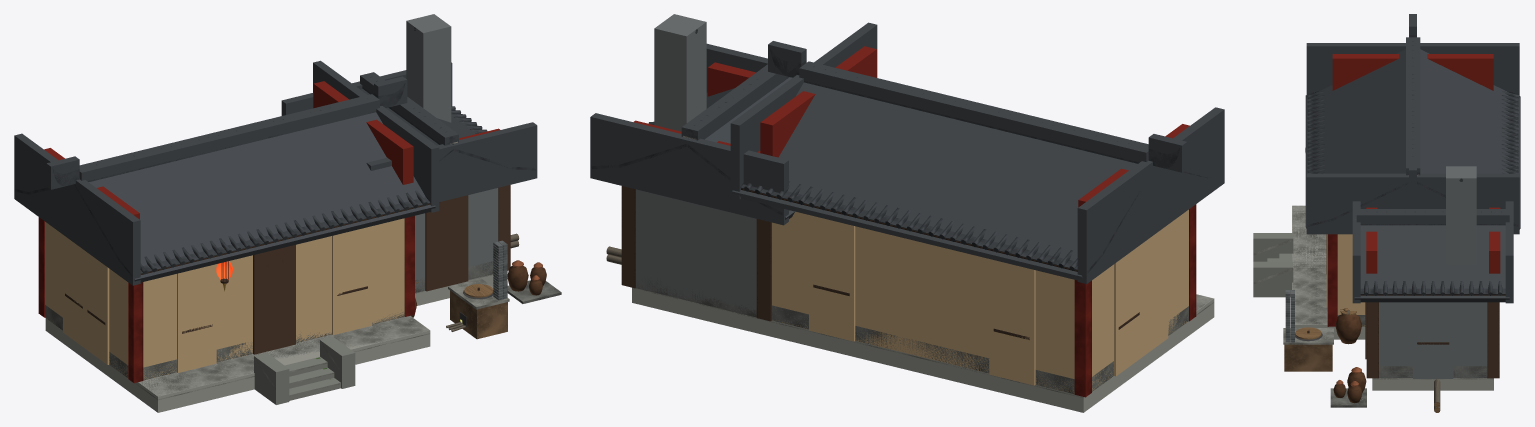
The model's file is kit_l_kitchen.gltf.
3 views of the same model, side by side, from view 1: azimuth 30°, elevation 25°; view 2: azimuth 150°, elevation 25°; view 3: azimuth 270°, elevation 25° (orthographic). The views are drawn at different scales.
Parts seen in each view (by area): view 1: Far, Near, Detail; view 2: Far, Near; view 3: Far, Near, Detail.
Boxes of the visible parts, left/top/right/bottom form: Far: left=14, top=14, right=537, bottom=412; Near: left=15, top=27, right=535, bottom=400; Detail: left=216, top=233, right=561, bottom=339; Far: left=590, top=14, right=1224, bottom=412; Near: left=591, top=29, right=1214, bottom=398; Far: left=1253, top=14, right=1520, bottom=390; Near: left=1253, top=35, right=1518, bottom=379; Detail: left=1283, top=147, right=1440, bottom=412.
Bounding box in the file's own units: 12.44 × 5.73 × 6.64.
Materials: 26 (25 with a texture image).
